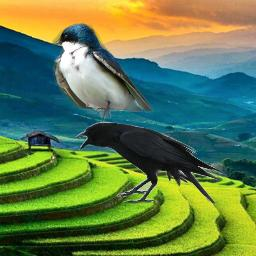Crow: (75, 122, 224, 205)
Swallow: (52, 22, 154, 126)
